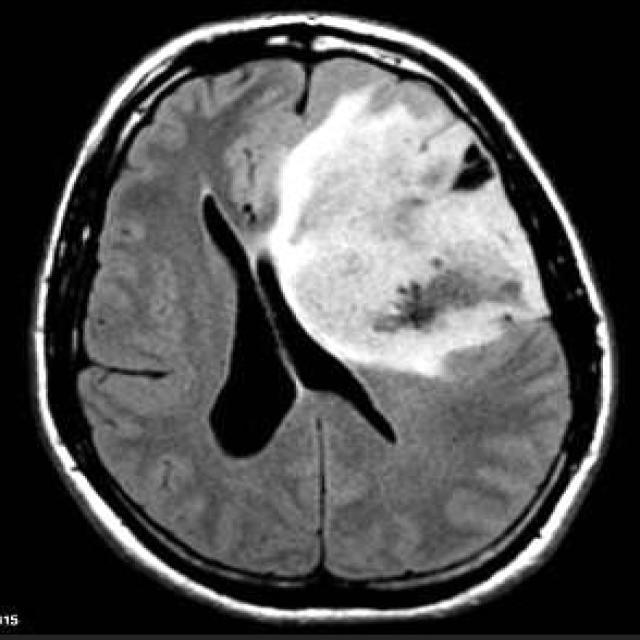brain tumor: (272, 90, 549, 377)
